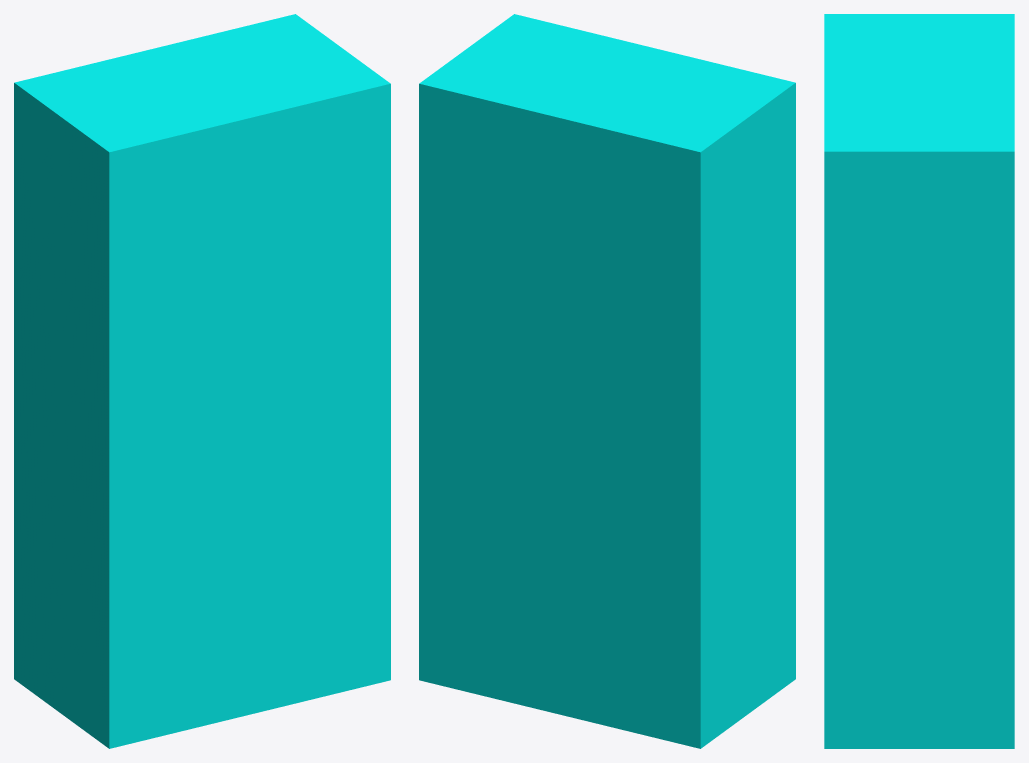
File: Stone2.DAE
3 views of the same model, side by side, from view 1: azimuth 30°, elevation 25°; view 2: azimuth 150°, elevation 25°; view 3: azimuth 270°, elevation 25° (orthographic).
Parts seen in each view (by area): view 1: Stone2te qui; view 2: Stone2te qui; view 3: Stone2te qui.
Boxes of the visible parts, x1,y1,x2,y2 form: Stone2te qui: [14, 14, 390, 748]; Stone2te qui: [419, 14, 795, 748]; Stone2te qui: [824, 14, 1014, 748].
Bounding box in the file's own units: 27.7 × 56.1 × 16.22.
